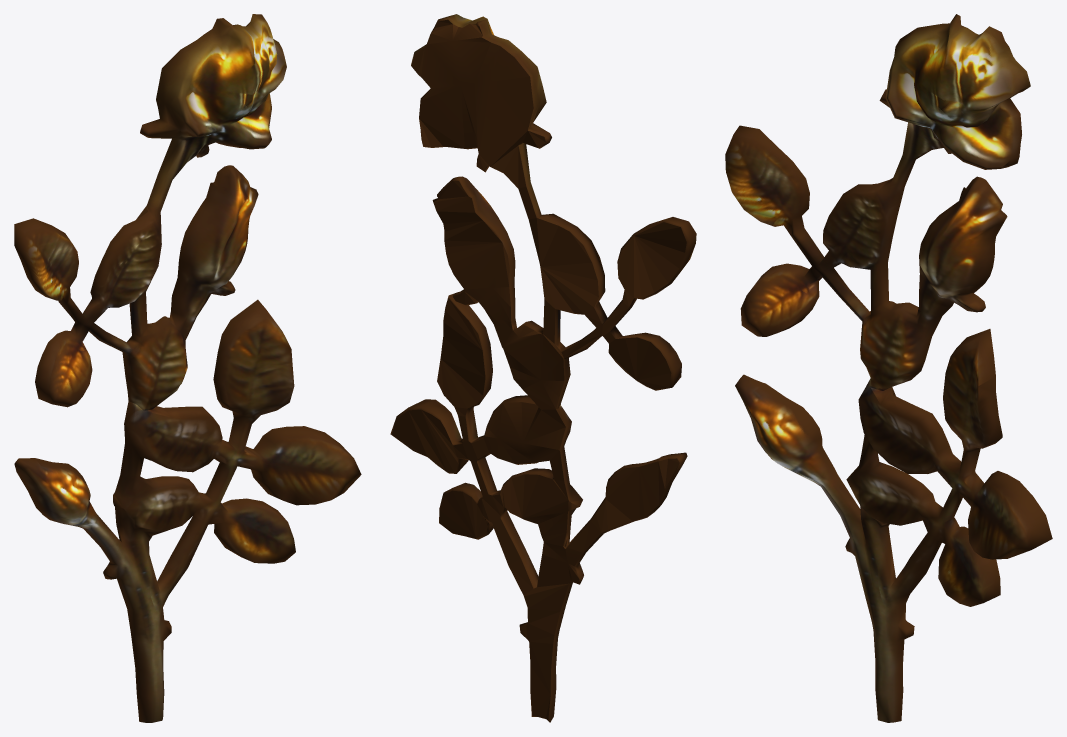
Rendered from Art2381.fbx.
3 views of the same model, side by side, from view 1: azimuth 30°, elevation 25°; view 2: azimuth 150°, elevation 25°; view 3: azimuth 330°, elevation 25° (orthographic). The views are drawn at different scales.
Visible parts, largest first — view 1: Mesh_2; view 2: Mesh_2; view 3: Mesh_2.
Boxes of the visible parts, bbox=[...] form: Mesh_2: bbox=[14, 14, 361, 722]; Mesh_2: bbox=[390, 14, 696, 722]; Mesh_2: bbox=[725, 14, 1052, 722].
Bounding box in the file's own units: 14.05 × 28.99 × 3.72.
Materials: 1 (1 with a texture image).
